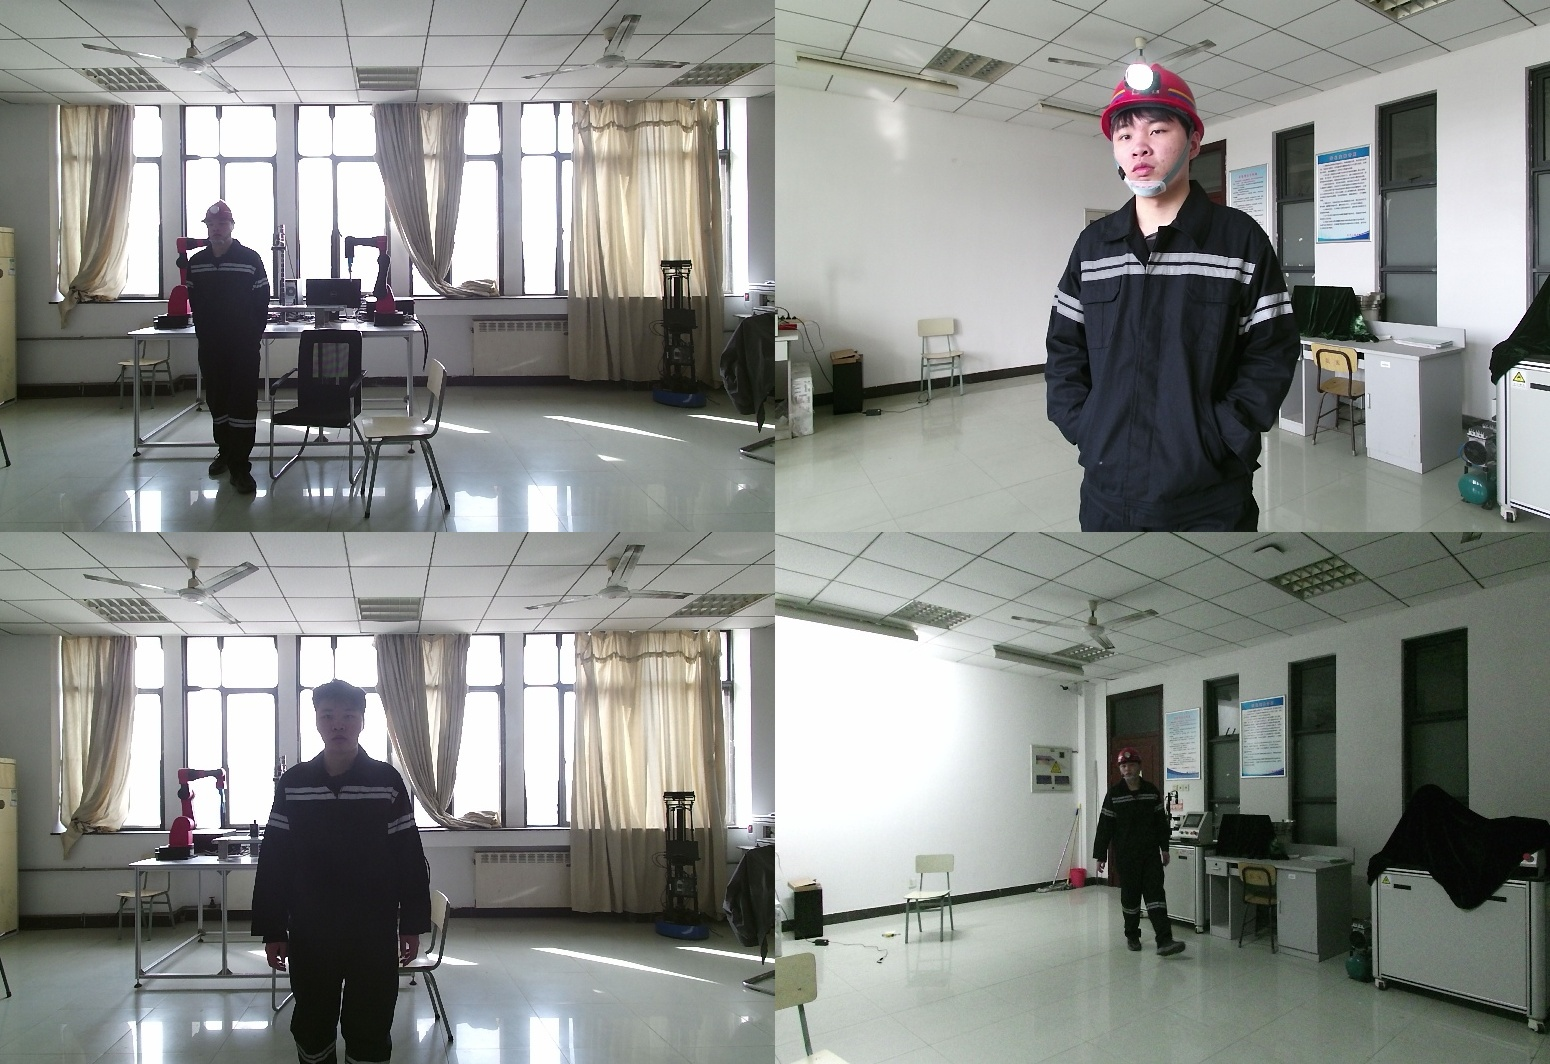person: (1047, 63, 1325, 532), (255, 681, 442, 1064), (181, 202, 270, 486), (1095, 749, 1191, 958)
